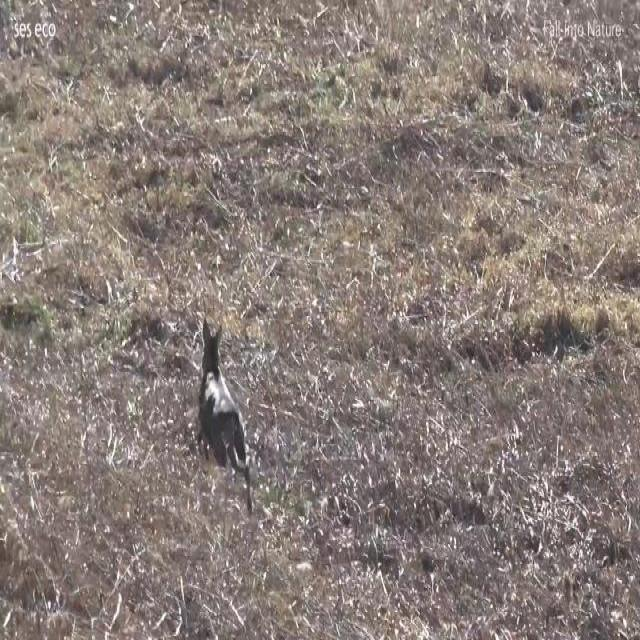deer: (200, 315, 252, 512)
